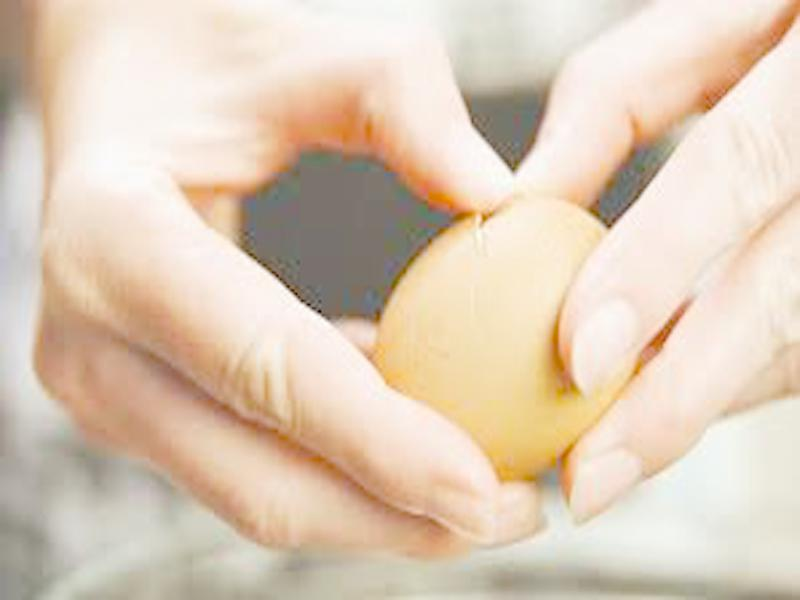Eggs: (375, 193, 639, 486)
